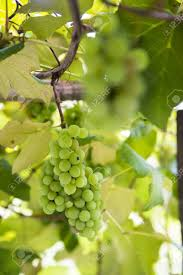grapes: (36, 126, 101, 239)
